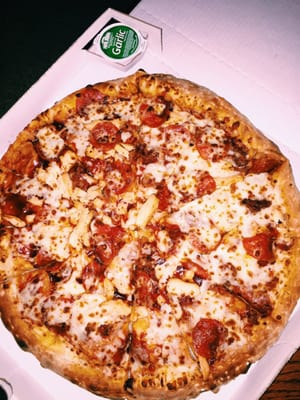sandwich: (0, 71, 300, 399)
